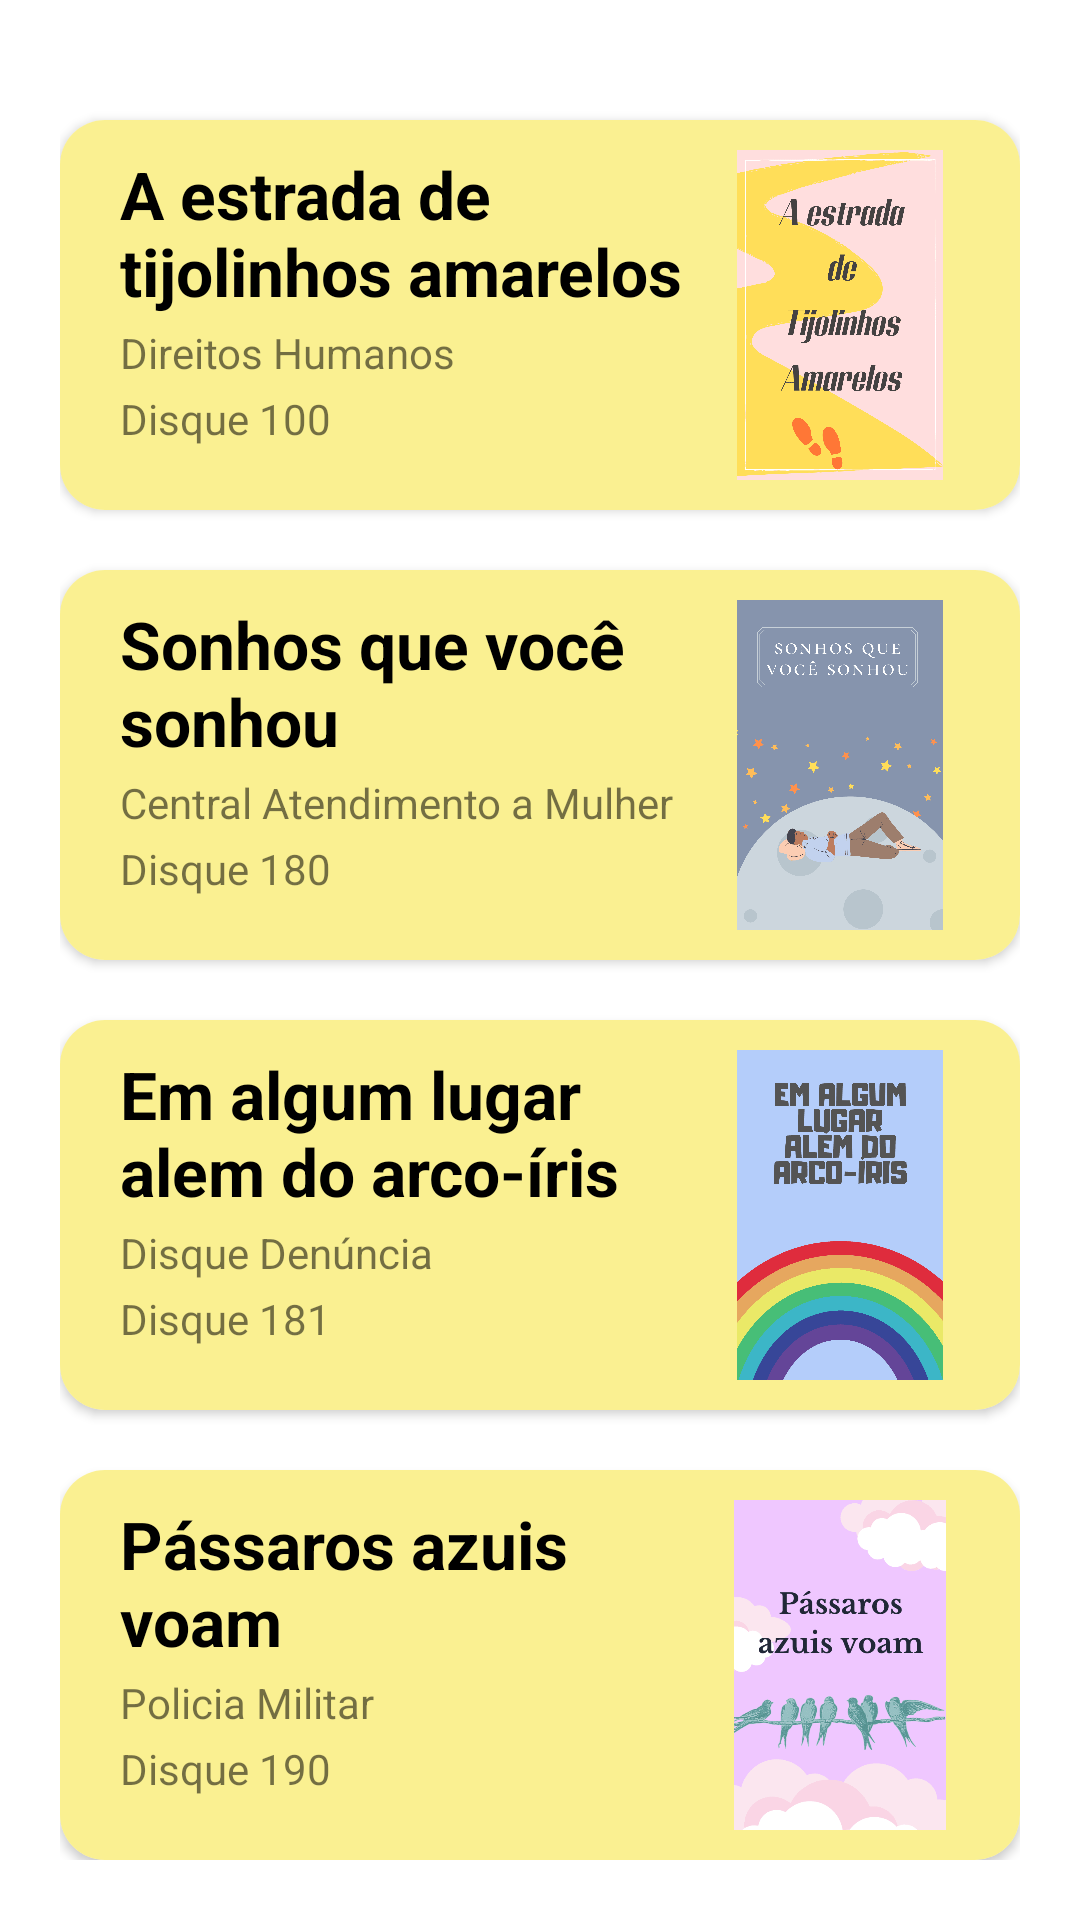

Named icons in this screenshot (1080x1920) and their bounding boxes, (x1, y1, x2, y2):
capa: (737, 150, 943, 480), (737, 600, 943, 930), (737, 1050, 943, 1380), (734, 1500, 946, 1830)
